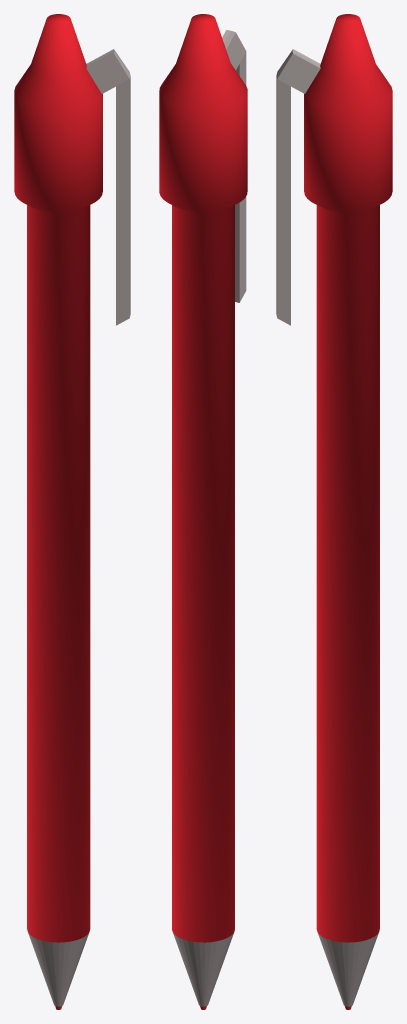
Rendered from PenRed.fbx.
3 renders of one model, left to right at view 1: azimuth 90°, elevation 25°; view 2: azimuth 150°, elevation 25°; view 3: azimuth 270°, elevation 25°, orthographic.
Parts seen in each view (by area): view 1: PenRed, Pencil.006, Pencil.005; view 2: PenRed, Pencil.005, Pencil.006; view 3: PenRed, Pencil.006, Pencil.005.
Part boxes in pixels (<box>): PenRed: <box>14,14,102,942</box>; Pencil.006: <box>86,49,130,325</box>; Pencil.005: <box>28,932,89,1006</box>; PenRed: <box>159,14,247,942</box>; Pencil.005: <box>173,932,234,1006</box>; Pencil.006: <box>222,30,246,302</box>; PenRed: <box>304,14,392,942</box>; Pencil.006: <box>276,49,320,325</box>; Pencil.005: <box>317,932,378,1006</box>.
Size of the model in its own units: 19.27 by 238 by 25.3.
